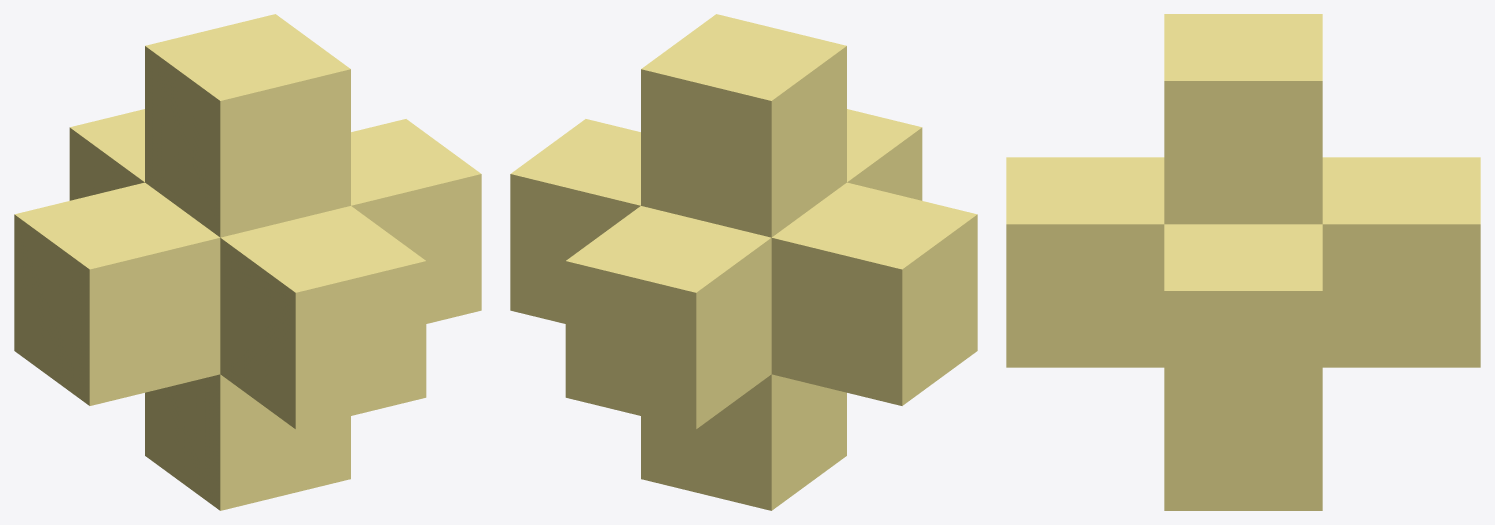
Rendered from spark.gltf.
The picture shows the model from 3 angles, left to right: view 1: azimuth 30°, elevation 25°; view 2: azimuth 150°, elevation 25°; view 3: azimuth 270°, elevation 25°; orthographic projection. The views are drawn at different scales.
Parts seen in each view (by area): view 1: cube; view 2: cube; view 3: cube.
Boxes of the visible parts, x1,y1,x2,y2 form: cube: [14, 14, 481, 510]; cube: [510, 14, 977, 510]; cube: [1006, 14, 1480, 510].
Bounding box in the file's own units: 0.375 × 0.375 × 0.375.
Materials: 1 (1 with a texture image).
